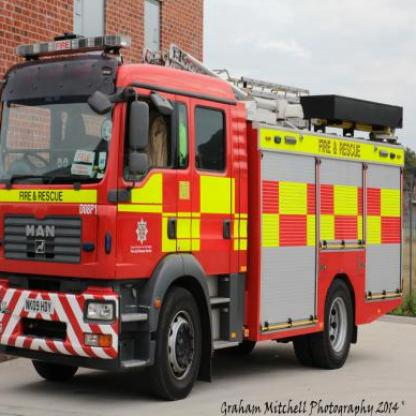truck: (0, 32, 403, 397)
